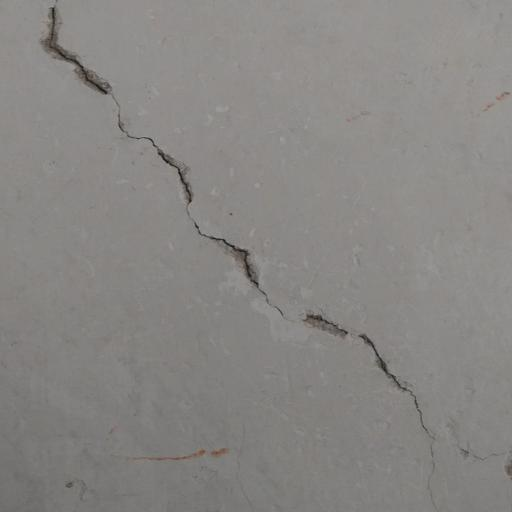major_crack: (40, 0, 469, 493)
